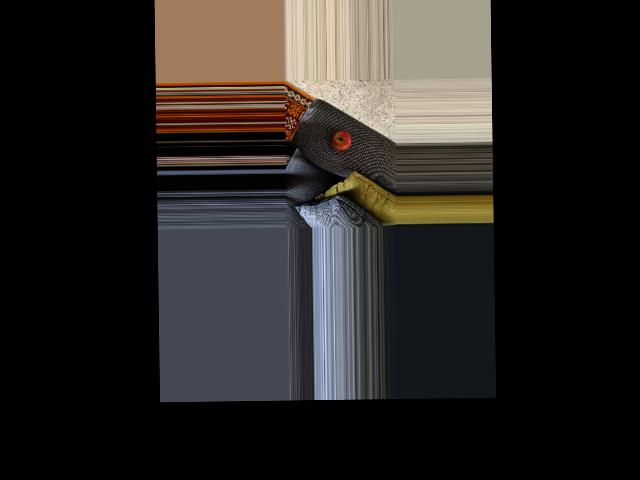apple: (329, 130, 351, 152)
